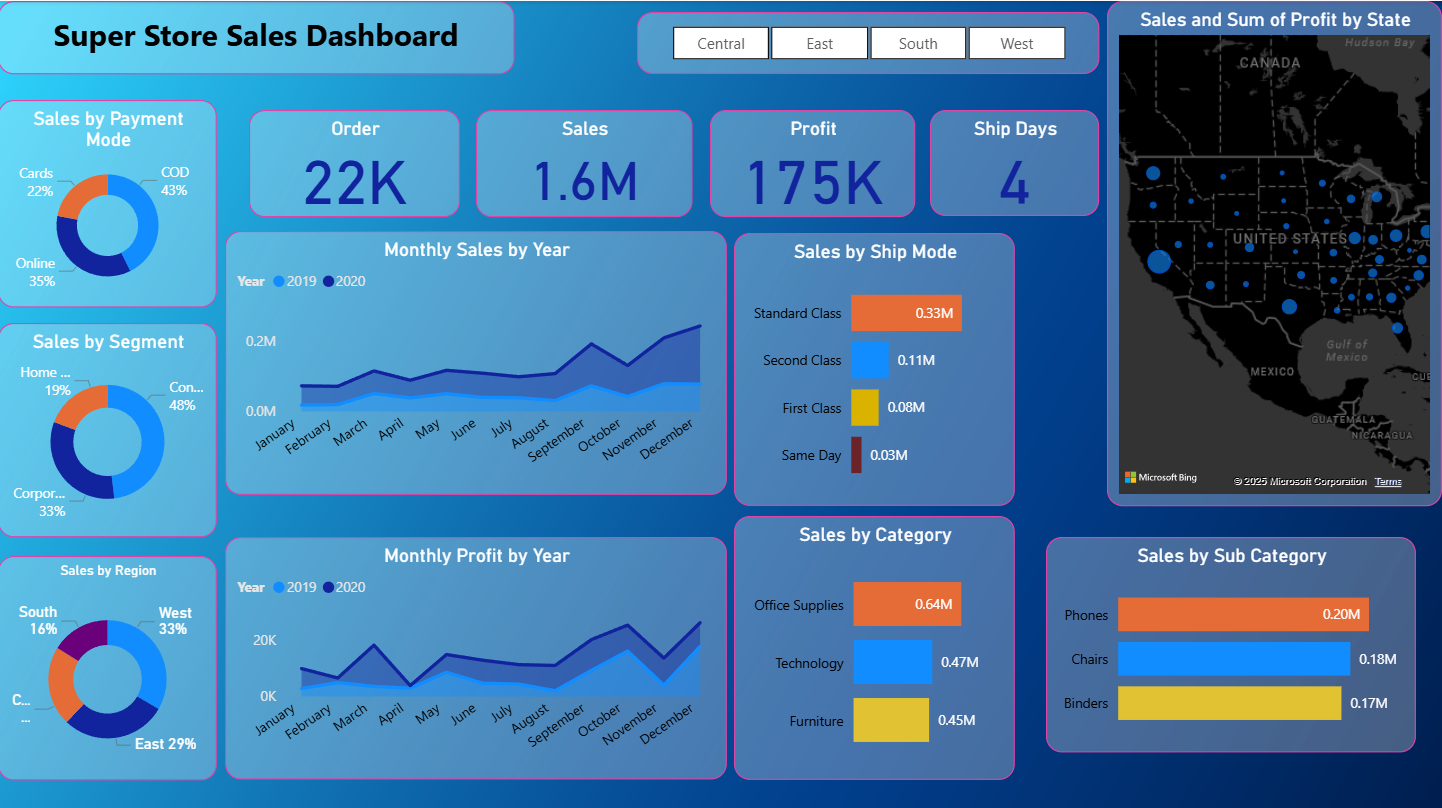

The dashboard page shown, as its layout file describes it:
{"tool":"powerbi","page":{"name":"Page 1","canvas":[1280,720],"ordinal":0},"visuals":[{"type":"clusteredBarChart","title":" Sales by Category","fields":{"Category":["SuperStore Sales DataSet.Category"],"Y":["Sum(SuperStore Sales DataSet.Sales)"]},"box":[652.6,456.7,249.2,234.1],"z":0},{"type":"clusteredBarChart","title":"Sales by Ship Mode","fields":{"Category":["SuperStore Sales DataSet.Ship Mode"],"Y":["Sum(SuperStore Sales DataSet.Sales)"]},"box":[652.6,205.7,249.2,242.1],"z":1000},{"type":"stackedAreaChart","title":"Monthly Sales by Year","fields":{"Y":["Sum(SuperStore Sales DataSet.Sales)"],"Category":["SuperStore Sales DataSet.Order Date.Variation.Date Hierarchy.Month","SuperStore Sales DataSet.Order Date.Variation.Date Hierarchy.Day"],"Series":["SuperStore Sales DataSet.Order Date.Variation.Date Hierarchy.Year"]},"box":[201.3,203.9,445.1,234.1],"z":2000},{"type":"stackedAreaChart","title":"Monthly Profit by Year","fields":{"Category":["SuperStore Sales DataSet.Order Date.Variation.Date Hierarchy.Month","SuperStore Sales DataSet.Order Date.Variation.Date Hierarchy.Day"],"Series":["SuperStore Sales DataSet.Order Date.Variation.Date Hierarchy.Year"],"Y":["Sum(SuperStore Sales DataSet.Profit)"]},"box":[201.3,475.3,445.1,215.5],"z":3000},{"type":"map","title":" Sales and Sum of Profit by State","fields":{"Category":["SuperStore Sales DataSet.State"],"Size":["Sum(SuperStore Sales DataSet.Sales)"]},"box":[983.3,0,297,447.8],"z":4000},{"type":"donutChart","title":" Sales by Segment","fields":{"Y":["Sum(SuperStore Sales DataSet.Sales)"],"Category":["SuperStore Sales DataSet.Segment"]},"box":[0,285.5,194.2,189.8],"z":5000},{"type":"donutChart","title":" Sales by Payment Mode","fields":{"Y":["Sum(SuperStore Sales DataSet.Sales)"],"Category":["SuperStore Sales DataSet.Payment Mode"]},"box":[0,87.8,194.2,184.4],"z":6000},{"type":"textbox","box":[0,0,457.5,64.7],"z":7000},{"type":"slicer","fields":{"Values":["SuperStore Sales DataSet.Region"]},"box":[566.6,9.8,409.7,55],"z":8000},{"type":"card","title":"Sales","fields":{"Values":["Sum(SuperStore Sales DataSet.Sales)"]},"box":[423.8,96.3,191.5,94.9],"z":9000},{"type":"card","title":"Order","fields":{"Values":["Sum(SuperStore Sales DataSet.Quantity)"]},"box":[222.6,96.3,187.1,94.9],"z":10000},{"type":"card","title":"Profit","fields":{"Values":["Sum(SuperStore Sales DataSet.Profit)"]},"box":[631.3,96.3,181.8,94.9],"z":11000},{"type":"card","title":"Ship Days","fields":{"Values":["Avg(SuperStore Sales DataSet.AvgDelivery)"]},"box":[826.4,96.8,149.9,94],"z":12000},{"type":"clusteredBarChart","title":"Sales by Sub Category","fields":{"Category":["SuperStore Sales DataSet.Sub-Category"],"Y":["Sum(SuperStore Sales DataSet.Sales)"]},"box":[929.3,475.3,328.1,190.6],"z":13000},{"type":"donutChart","title":" Sales by Region","fields":{"Category":["SuperStore Sales DataSet.Region"],"Y":["Sum(SuperStore Sales DataSet.Sales)"]},"box":[0,492.1,194.2,198.6],"z":14000}]}

Visuals, with their boxes in screenshot pixels (x1, y1, x2, y2), scaled from the page's 1280x720 canvas onto the 1442x808 screenshot:
" Sales by Category" clusteredBarChart: Rect(735, 513, 1016, 775)
"Sales by Ship Mode" clusteredBarChart: Rect(735, 231, 1016, 503)
"Monthly Sales by Year" stackedAreaChart: Rect(227, 229, 728, 492)
"Monthly Profit by Year" stackedAreaChart: Rect(227, 533, 728, 775)
" Sales and Sum of Profit by State" map: Rect(1108, 0, 1441, 503)
" Sales by Segment" donutChart: Rect(0, 320, 219, 533)
" Sales by Payment Mode" donutChart: Rect(0, 99, 219, 305)
textbox: Rect(0, 0, 515, 73)
slicer - SuperStore Sales DataSet.Region: Rect(638, 11, 1100, 73)
"Sales" card: Rect(477, 108, 693, 215)
"Order" card: Rect(251, 108, 462, 215)
"Profit" card: Rect(711, 108, 916, 215)
"Ship Days" card: Rect(931, 109, 1100, 214)
"Sales by Sub Category" clusteredBarChart: Rect(1047, 533, 1417, 747)
" Sales by Region" donutChart: Rect(0, 552, 219, 775)
